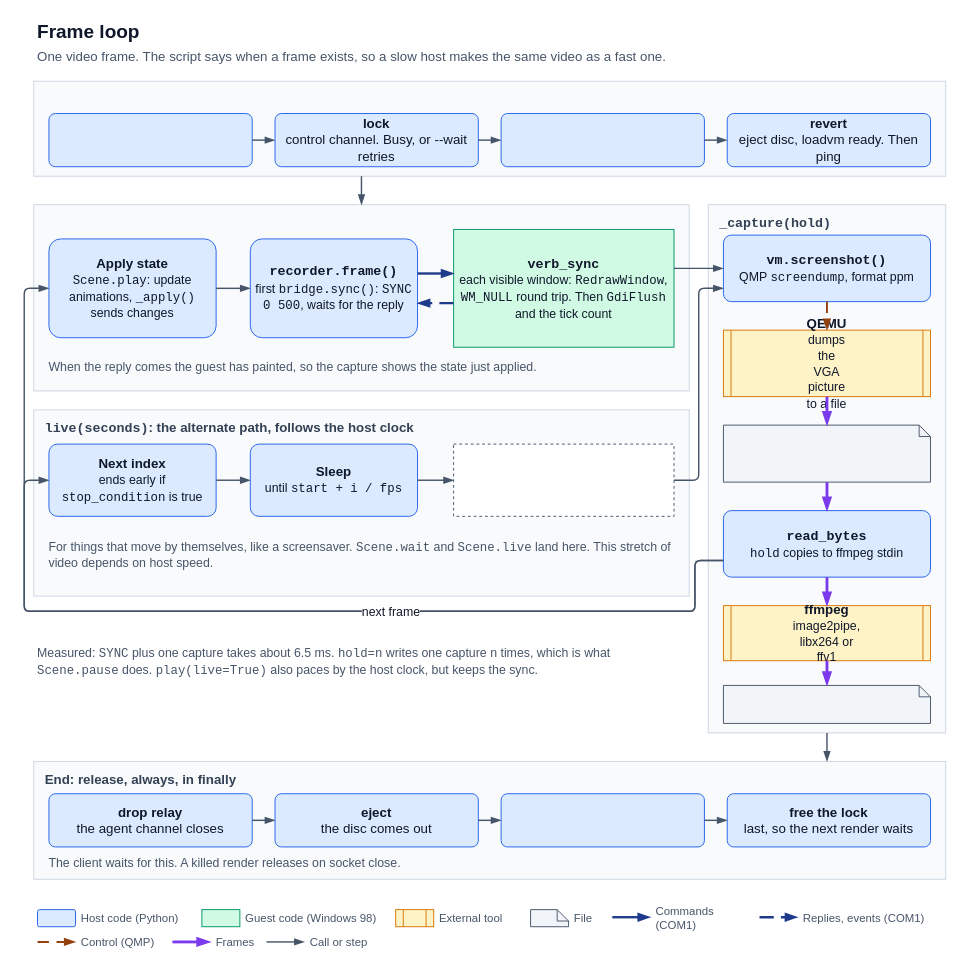
Some shapes in this 963 by 969 pixel diagram are drawn without their labels. The box of each missing label's shape, as (x1, y1, x2, y2) in pixels:
Apply state, then frame(hold) : the script sets the pace: (33, 204, 689, 391)
check status channel: one line, no lock: (48, 113, 252, 167)
frame.ppm: (722, 424, 931, 482)
No SYNC the capture takes what is on screen: (453, 443, 674, 516)
pause QMP stop, the VM is idle: (500, 793, 704, 847)
resume the VM runs again, before loadvm: (500, 113, 704, 167)
Start: service.attach(): (33, 80, 946, 176)
video file: (722, 684, 931, 723)
